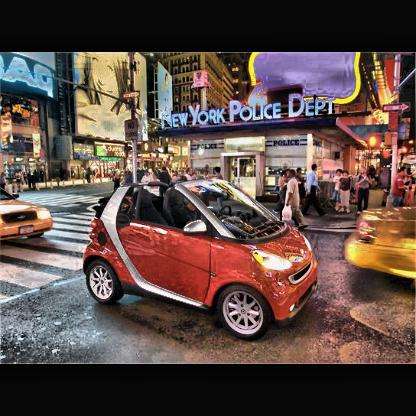smart fortwo Convertible 2012: (80, 179, 318, 344)
